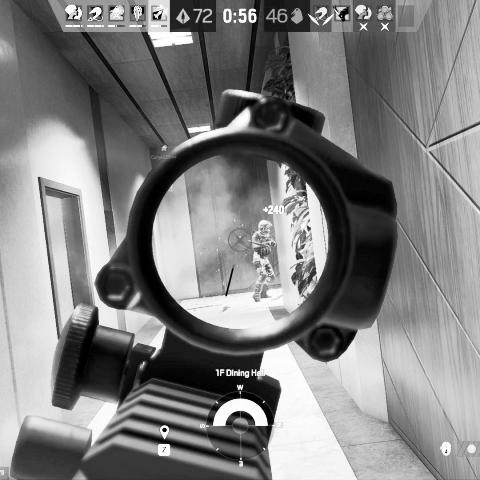Character: (250, 219, 278, 303)
Head: (258, 220, 272, 236)
